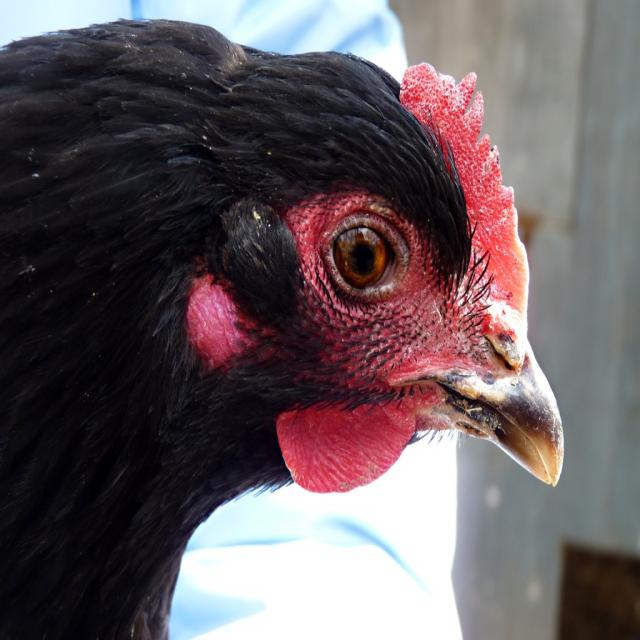Chicken: (18, 3, 561, 634)
